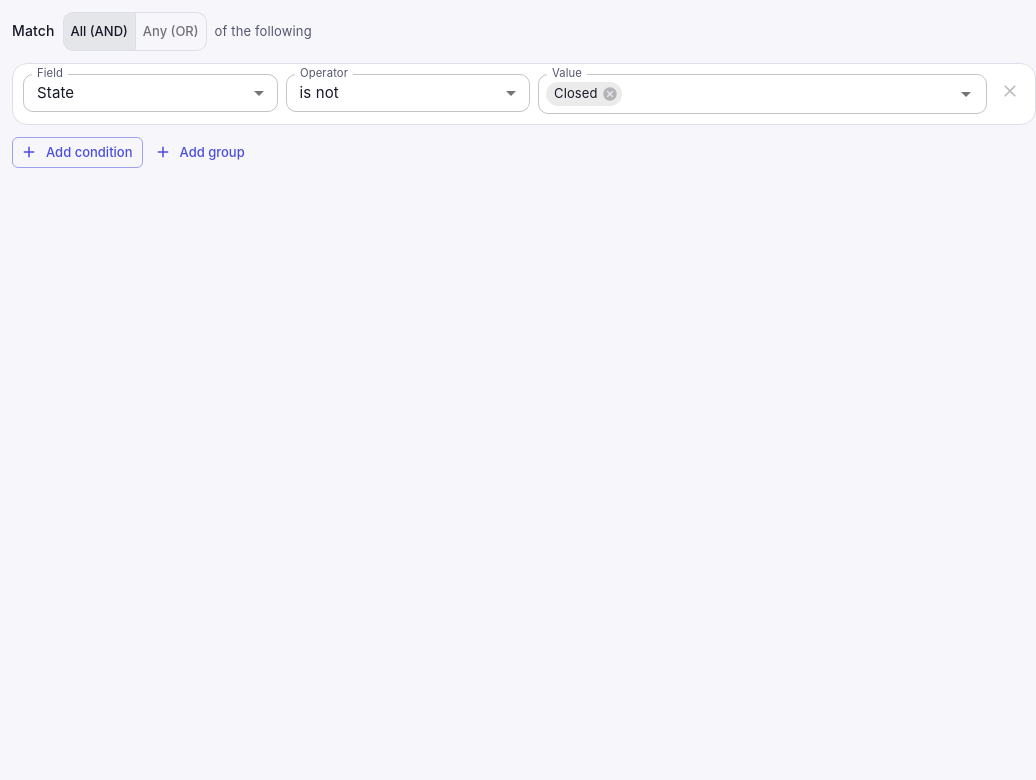
FilterBuilder › resets the operator and value when the field changes
This screenshot has width=1036, height=780.
Step 1. Click the dropdown named "Field" → click(56, 93), box [37,83,74,102]
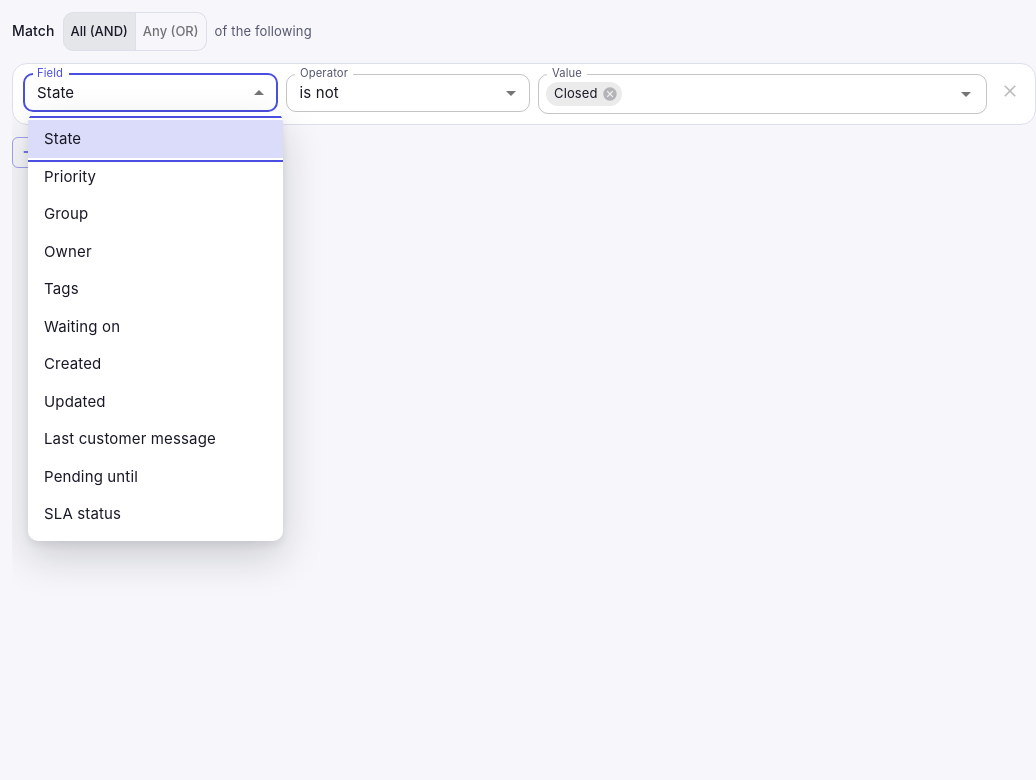
Step 2. Click the option "Created" → click(73, 364), box [44,354,101,373]
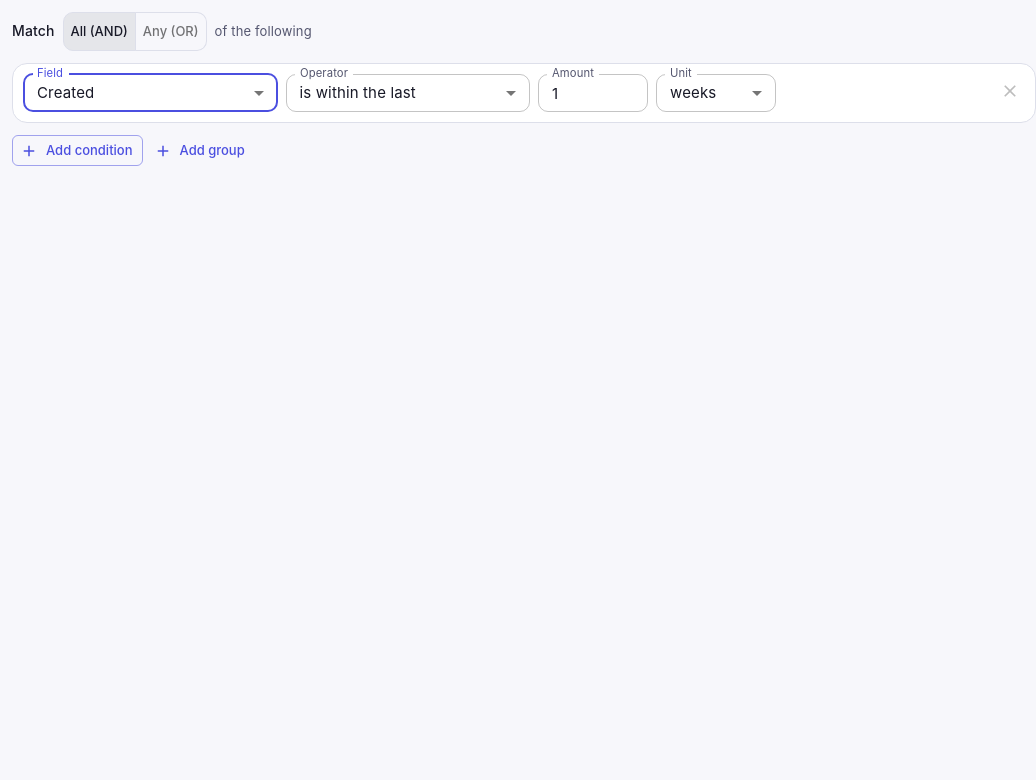
expect the dropdown named "Operator" reads "is within the last": met, box [300,83,416,102]
expect the number field labelled "Amount" holds "1": met, box [538,74,648,112]
